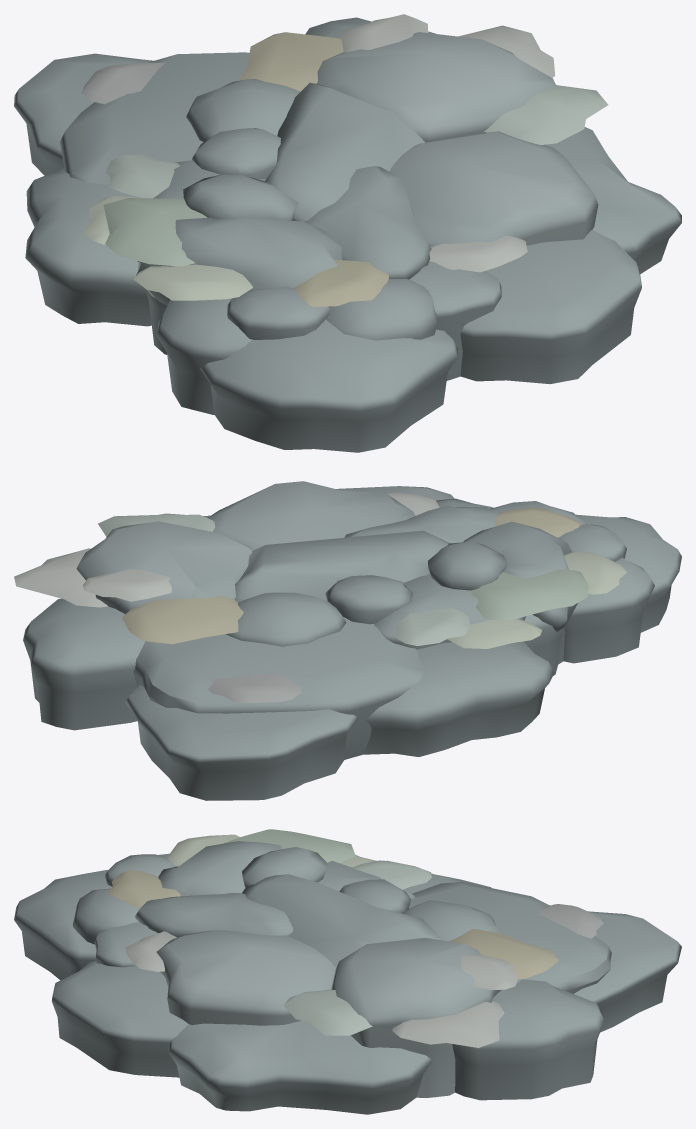
3 renders of one model, top to bottom at view 1: azimuth 30°, elevation 25°; view 2: azimuth 150°, elevation 25°; view 3: azimuth 270°, elevation 25°, orthographic. The views are drawn at different scales.
Parts seen in each view (by area): view 1: G:\FFXIV-MapTools\exports\y6t1\bg\ex5\02_ykt_y6\twn\y6t1\bgp (×2); view 2: G:\FFXIV-MapTools\exports\y6t1\bg\ex5\02_ykt_y6\twn\y6t1\bgp (×2); view 3: G:\FFXIV-MapTools\exports\y6t1\bg\ex5\02_ykt_y6\twn\y6t1\bgp (×2).
Part boxes in pixels (left/top/right/bottom): G:\FFXIV-MapTools\exports\y6t1\bg\ex5\02_ykt_y6\twn\y6t1\bgp (×2): left=14, top=14, right=681, bottom=452; G:\FFXIV-MapTools\exports\y6t1\bg\ex5\02_ykt_y6\twn\y6t1\bgp (×2): left=14, top=481, right=681, bottom=800; G:\FFXIV-MapTools\exports\y6t1\bg\ex5\02_ykt_y6\twn\y6t1\bgp (×2): left=14, top=829, right=681, bottom=1114.
Bounding box in the file's own units: 18.34 × 4.28 × 24.08.
